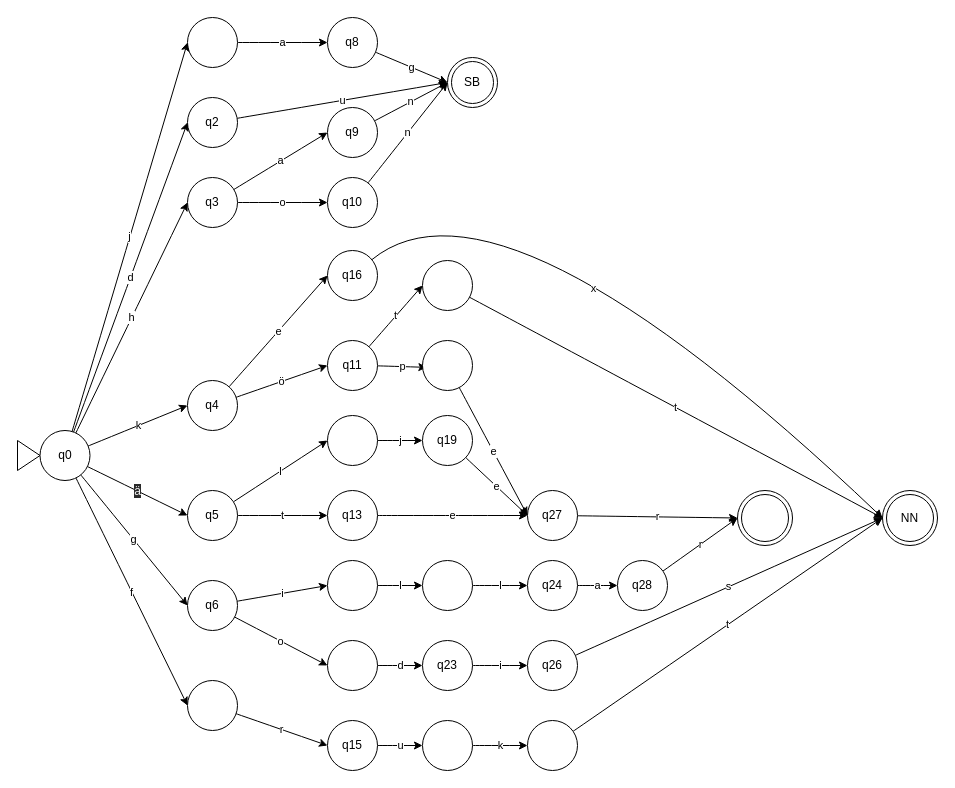
Image size: 955x788. Some labels were removed from this diagram. The centre of each missing label's shape, as x and y in pixels:
q1: the point at 212,42
q12: the point at 352,440
q14: the point at 352,585
q17: the point at 352,665
q18: the point at 447,365
q20: the point at 447,285
q21: the point at 447,585
q22: the point at 447,745
q25: the point at 552,745
q7: the point at 212,705
VB: the point at 764,518
